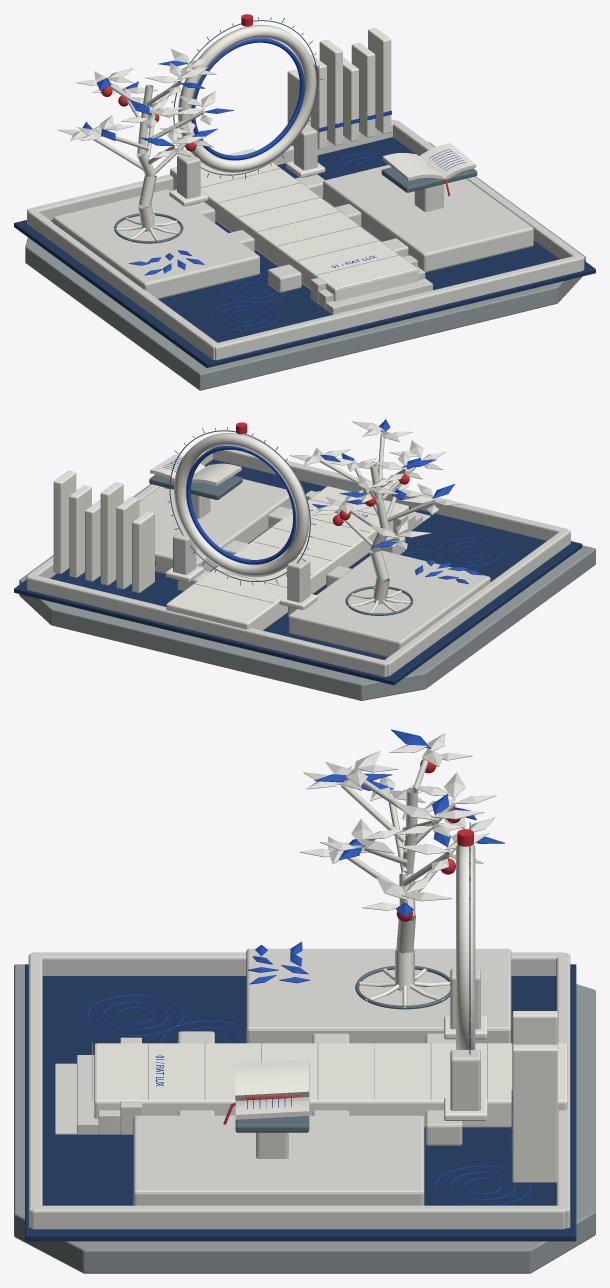
Rendered from genesis-garden.glb.
The picture shows the model from 3 angles, top to bottom: view 1: azimuth 30°, elevation 25°; view 2: azimuth 150°, elevation 25°; view 3: azimuth 270°, elevation 25°; orthographic projection. The views are drawn at different scales.
Parts seen in each view (by area): view 1: Garden_Islands, Water, Water_Edges, Causeway, Foundation, Garden_Tablets, Creation_Ring, Tree_Canopy, Ring_Piers, Stepping_Stones, Open_Book, Approach_Stairs (+7 smaller); view 2: Garden_Islands, Water_Edges, Water, Foundation, Causeway, Garden_Tablets, Creation_Ring, Tree_Canopy, Ring_Piers, Tree_Boughs, Tree_Trunk, Book_Pedestal (+8 smaller); view 3: Garden_Islands, Water, Water_Edges, Foundation, Causeway, Tree_Canopy, Garden_Tablets, Approach_Stairs, Open_Book, Creation_Ring, Ring_Piers, Stepping_Stones (+6 smaller).
Part boxes in pixels (bbox=[...]): Garden_Islands: bbox=[53, 165, 533, 299]; Water: bbox=[14, 137, 595, 367]; Water_Edges: bbox=[27, 119, 584, 360]; Causeway: bbox=[170, 148, 418, 301]; Foundation: bbox=[25, 142, 585, 390]; Garden_Tablets: bbox=[287, 28, 391, 149]; Creation_Ring: bbox=[178, 25, 316, 172]; Tree_Canopy: bbox=[58, 49, 234, 158]; Ring_Piers: bbox=[169, 124, 325, 206]; Stepping_Stones: bbox=[190, 174, 408, 292]; Open_Book: bbox=[382, 143, 476, 180]; Approach_Stairs: bbox=[310, 255, 432, 314]; Garden_Islands: bbox=[139, 479, 490, 657]; Water_Edges: bbox=[26, 447, 570, 676]; Water: bbox=[14, 459, 582, 685]; Foundation: bbox=[19, 484, 595, 700]; Causeway: bbox=[166, 486, 408, 630]; Garden_Tablets: bbox=[53, 470, 155, 592]; Creation_Ring: bbox=[174, 433, 309, 577]; Tree_Canopy: bbox=[290, 419, 462, 549]; Ring_Piers: bbox=[165, 529, 317, 609]; Tree_Boughs: bbox=[320, 433, 434, 550]; Tree_Trunk: bbox=[369, 464, 389, 604]; Book_Pedestal: bbox=[149, 474, 242, 518]; Garden_Islands: bbox=[133, 948, 511, 1205]; Water: bbox=[25, 964, 576, 1241]; Water_Edges: bbox=[28, 952, 570, 1229]; Foundation: bbox=[14, 964, 595, 1273]; Causeway: bbox=[94, 1043, 567, 1127]; Tree_Canopy: bbox=[300, 729, 504, 917]; Garden_Tablets: bbox=[511, 1011, 557, 1182]; Approach_Stairs: bbox=[55, 1037, 141, 1134]; Open_Book: bbox=[235, 1059, 309, 1119]; Creation_Ring: bbox=[456, 844, 475, 1049]; Ring_Piers: bbox=[444, 968, 487, 1120]; Stepping_Stones: bbox=[178, 1031, 462, 1145].
Size of the model in its own units: 15.6 by 7.59 by 13.4.
